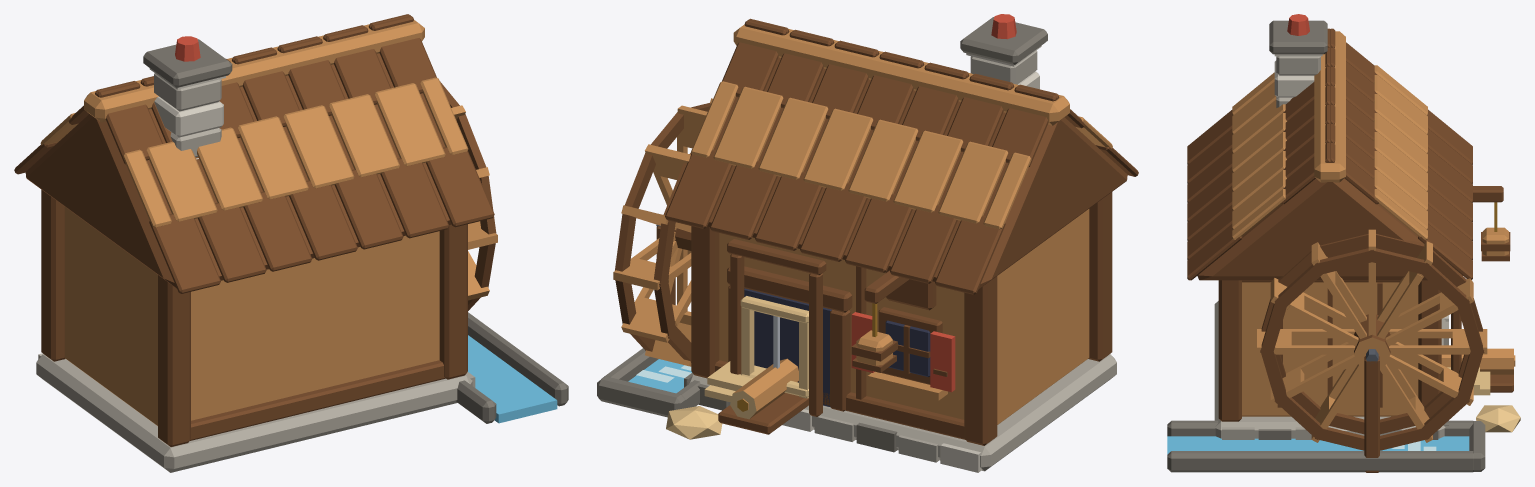
File: sawmill_l2.fbx
The picture shows the model from 3 angles, left to right: view 1: azimuth 30°, elevation 25°; view 2: azimuth 150°, elevation 25°; view 3: azimuth 270°, elevation 25°; orthographic projection. The views are drawn at different scales.
Visible parts, largest first — view 1: sawmill_l2, Wheel; view 2: sawmill_l2, Wheel, Saw; view 3: sawmill_l2, Wheel.
Boxes of the visible parts, x1,y1,x2,y2 form: sawmill_l2: (14, 14, 568, 472); Wheel: (440, 81, 497, 310); sawmill_l2: (597, 14, 1138, 472); Wheel: (613, 98, 712, 366); Saw: (740, 296, 808, 398); sawmill_l2: (1167, 14, 1520, 472); Wheel: (1257, 229, 1487, 450).
Size of the model in its own units: 0.8712 by 0.8298 by 0.807.
